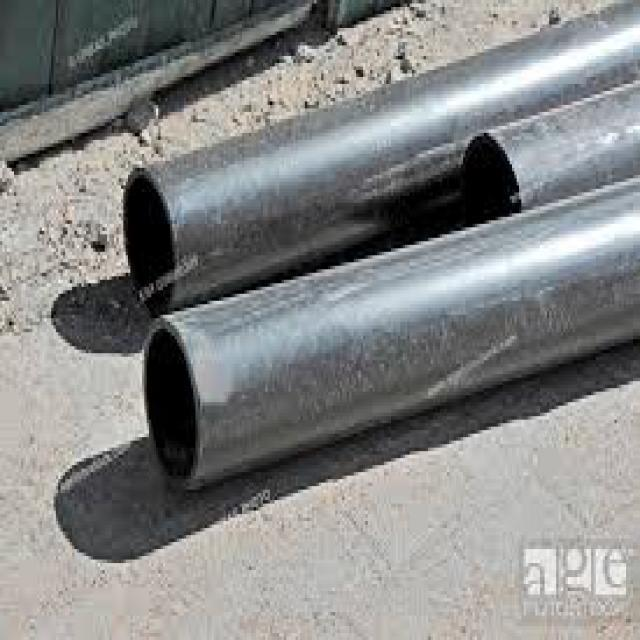pipe: (145, 324, 199, 481), (124, 171, 176, 316), (462, 133, 521, 225)
